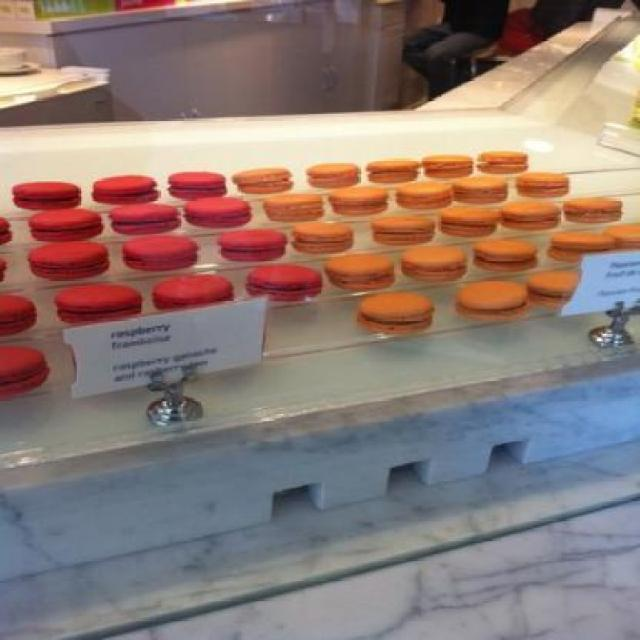Macaron: (3, 148, 639, 388)
